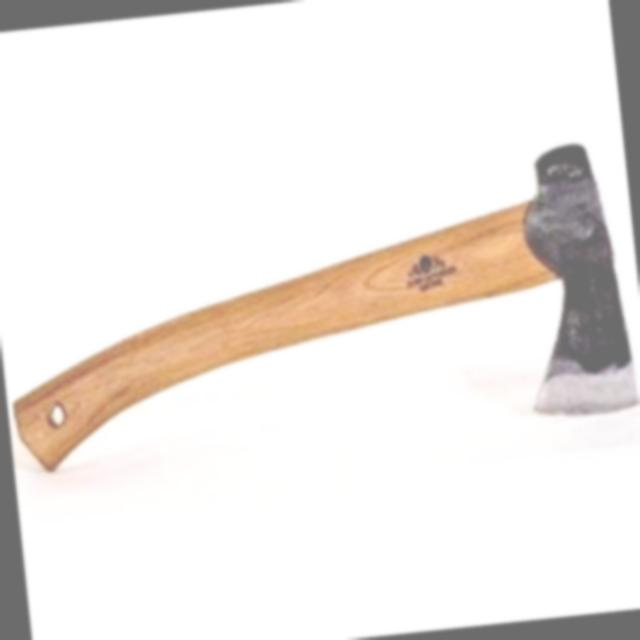ax: (0, 121, 640, 493)
